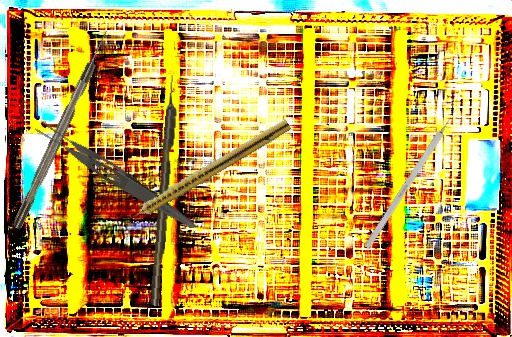Dressing Forceps: (31, 116, 202, 234)
Handpiece: (120, 115, 292, 228)
Hook Surgical: (10, 28, 113, 231), (363, 103, 462, 250), (148, 74, 181, 307)
